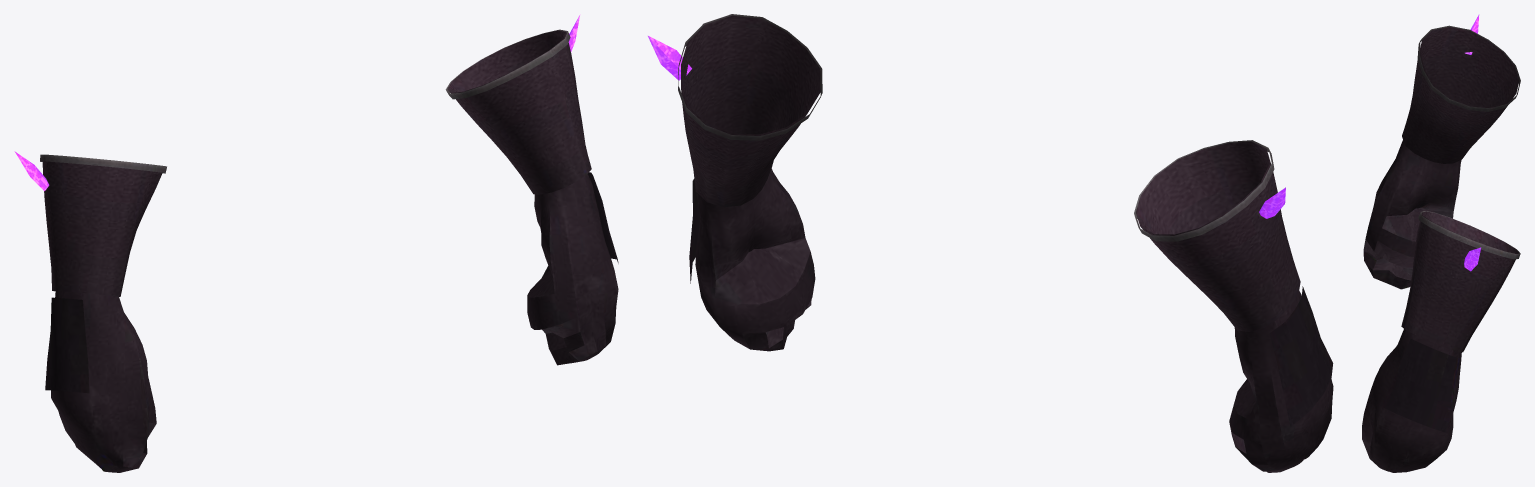
Rendered from Luvas_de_Couro_nivel50.glb.
The picture shows the model from 3 angles, left to right: view 1: azimuth 30°, elevation 25°; view 2: azimuth 150°, elevation 25°; view 3: azimuth 270°, elevation 25°; orthographic projection. The views are drawn at different scales.
Visible parts, largest first — view 1: luvas_de_couro_nivel50; view 2: luvas_de_couro_nivel50; view 3: luvas_de_couro_nivel50.
Part boxes in pixels (x1=…): luvas_de_couro_nivel50: x1=14, y1=14, x2=618, y2=472; luvas_de_couro_nivel50: x1=648, y1=14, x2=1333, y2=472; luvas_de_couro_nivel50: x1=1362, y1=14, x2=1520, y2=472.
Size of the model in its own units: 0.688 by 0.3555 by 0.1997.
1 material, 1 textured.
